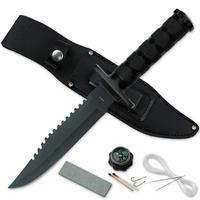knife: (7, 11, 188, 192)
